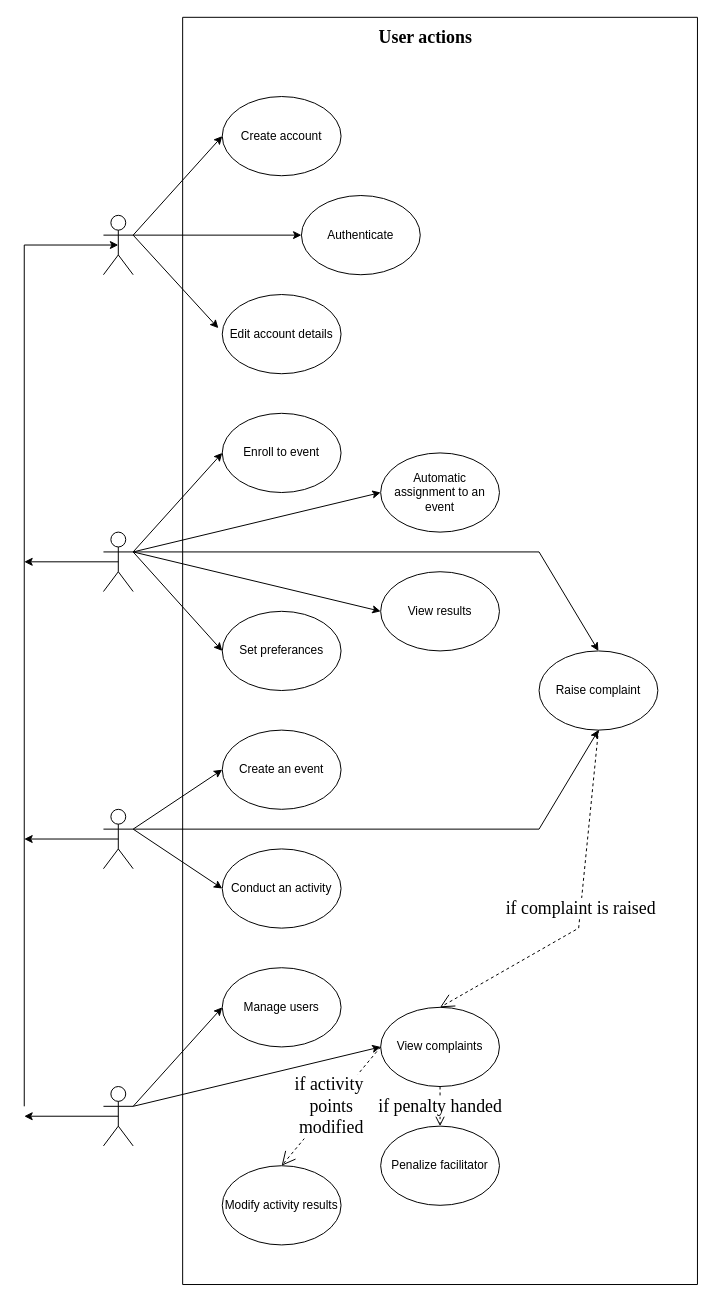
Some shapes in this 715 by 1302 pixel diagram are drawn without their labels. The box of each missing label's shape, as (x1, y1, x2, y2) in pixels:
Admin: (102, 1086, 133, 1146)
Facilitator: (102, 808, 133, 869)
Player: (102, 531, 133, 592)
User: (102, 214, 133, 275)
